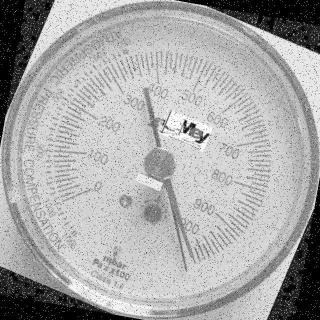gauge: (0, 0, 320, 320), (53, 168, 103, 220), (168, 226, 218, 276), (140, 143, 181, 184), (178, 262, 194, 278), (186, 251, 196, 259)
